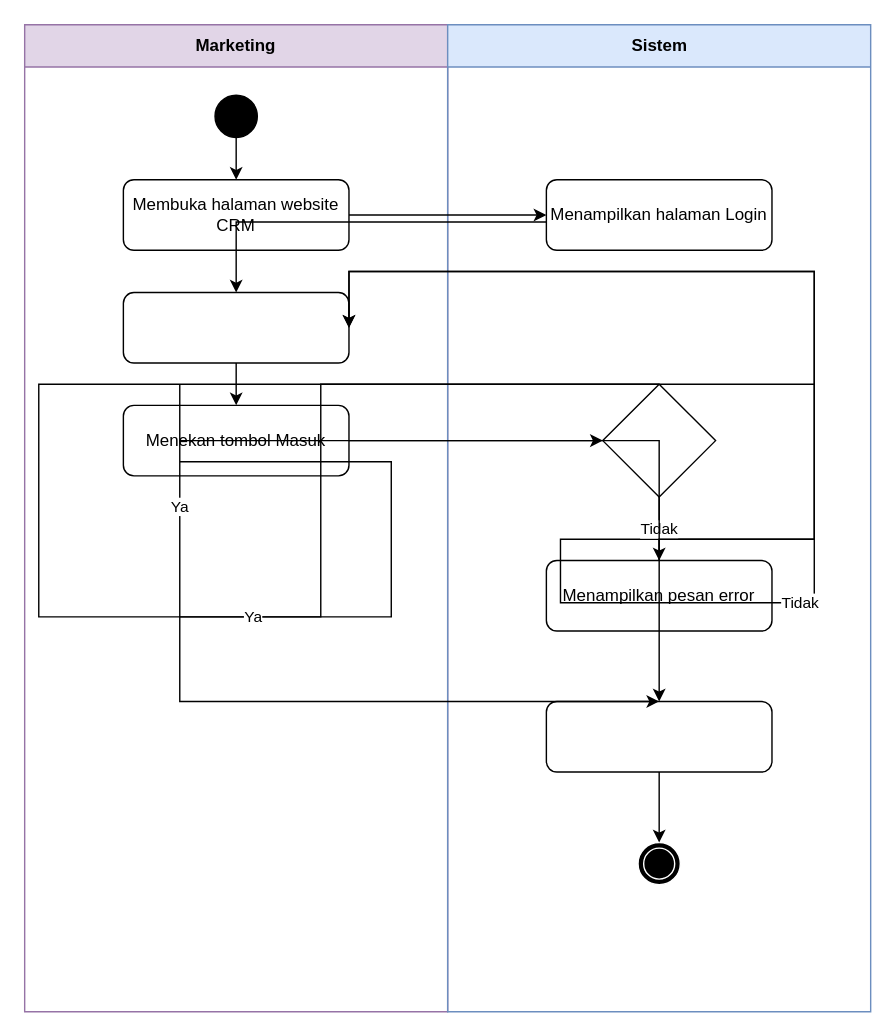
Image size: 895x1036. Some labels were removed from this diagram. The centre of each missing label's shape, as x and y in pixels:
Memasukkan email dan password: point 235,327
Menampilkan halaman Beranda: point 658,736
Validasi data?: point 658,440
